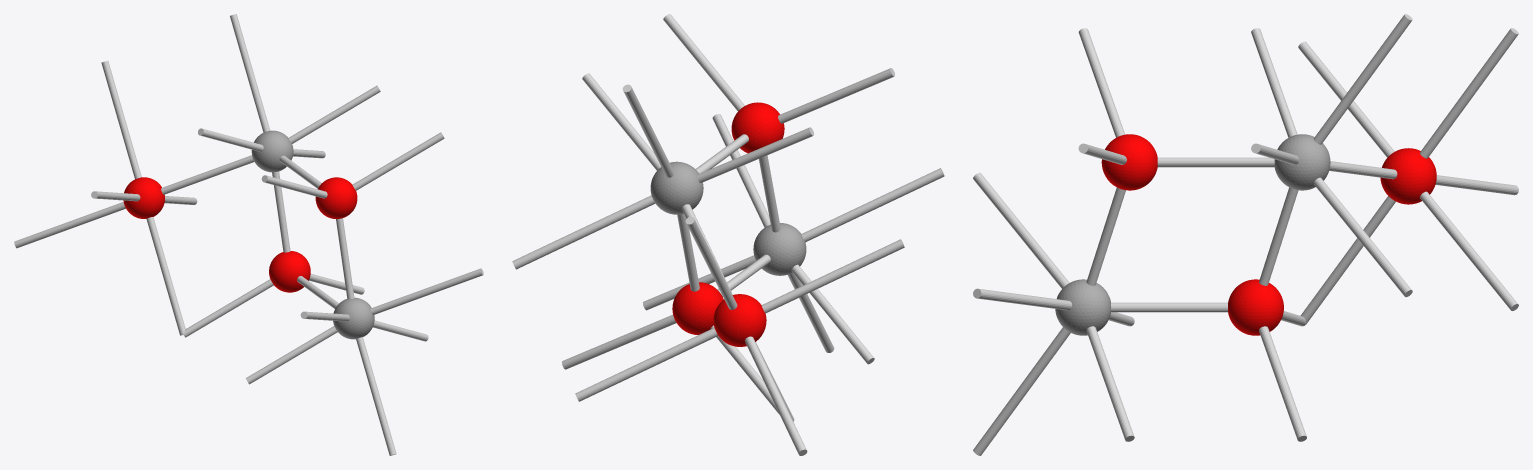
The model's file is structure_mpstyle.glb.
The picture shows the model from 3 angles, left to right: view 1: azimuth 30°, elevation 25°; view 2: azimuth 150°, elevation 25°; view 3: azimuth 270°, elevation 25°; orthographic projection. The views are drawn at different scales.
Visible parts, largest first — view 1: world; view 2: world; view 3: world.
Part boxes in pixels (x1,y1,x2,y2): world: (14,14,483,455); world: (512,14,944,455); world: (973,14,1518,455).
Bounding box in the file's own units: 5.99 × 6.89 × 7.73.
